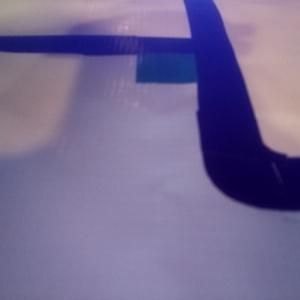bottom_left: (136, 39, 230, 83)
